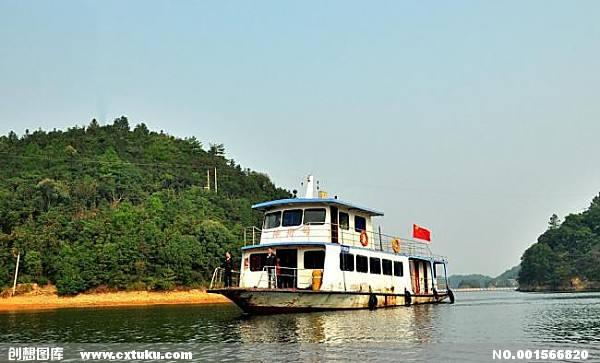otherboat: (207, 181, 451, 321)
